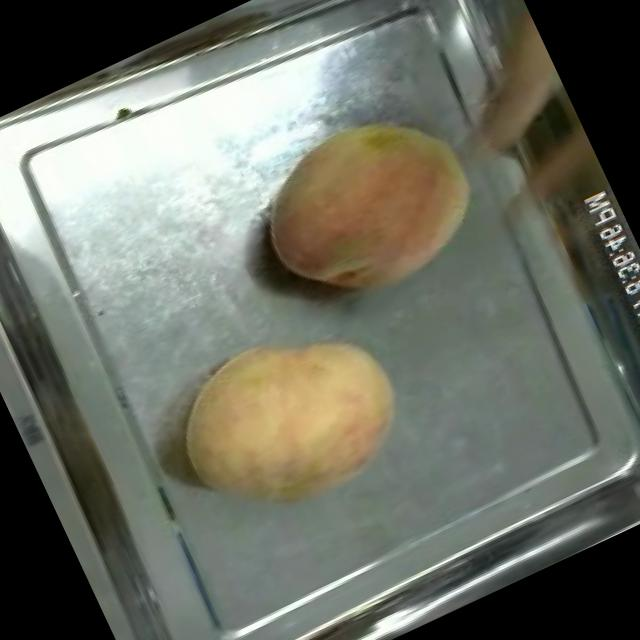Fruit: (150, 286, 433, 548), (228, 76, 510, 336)
